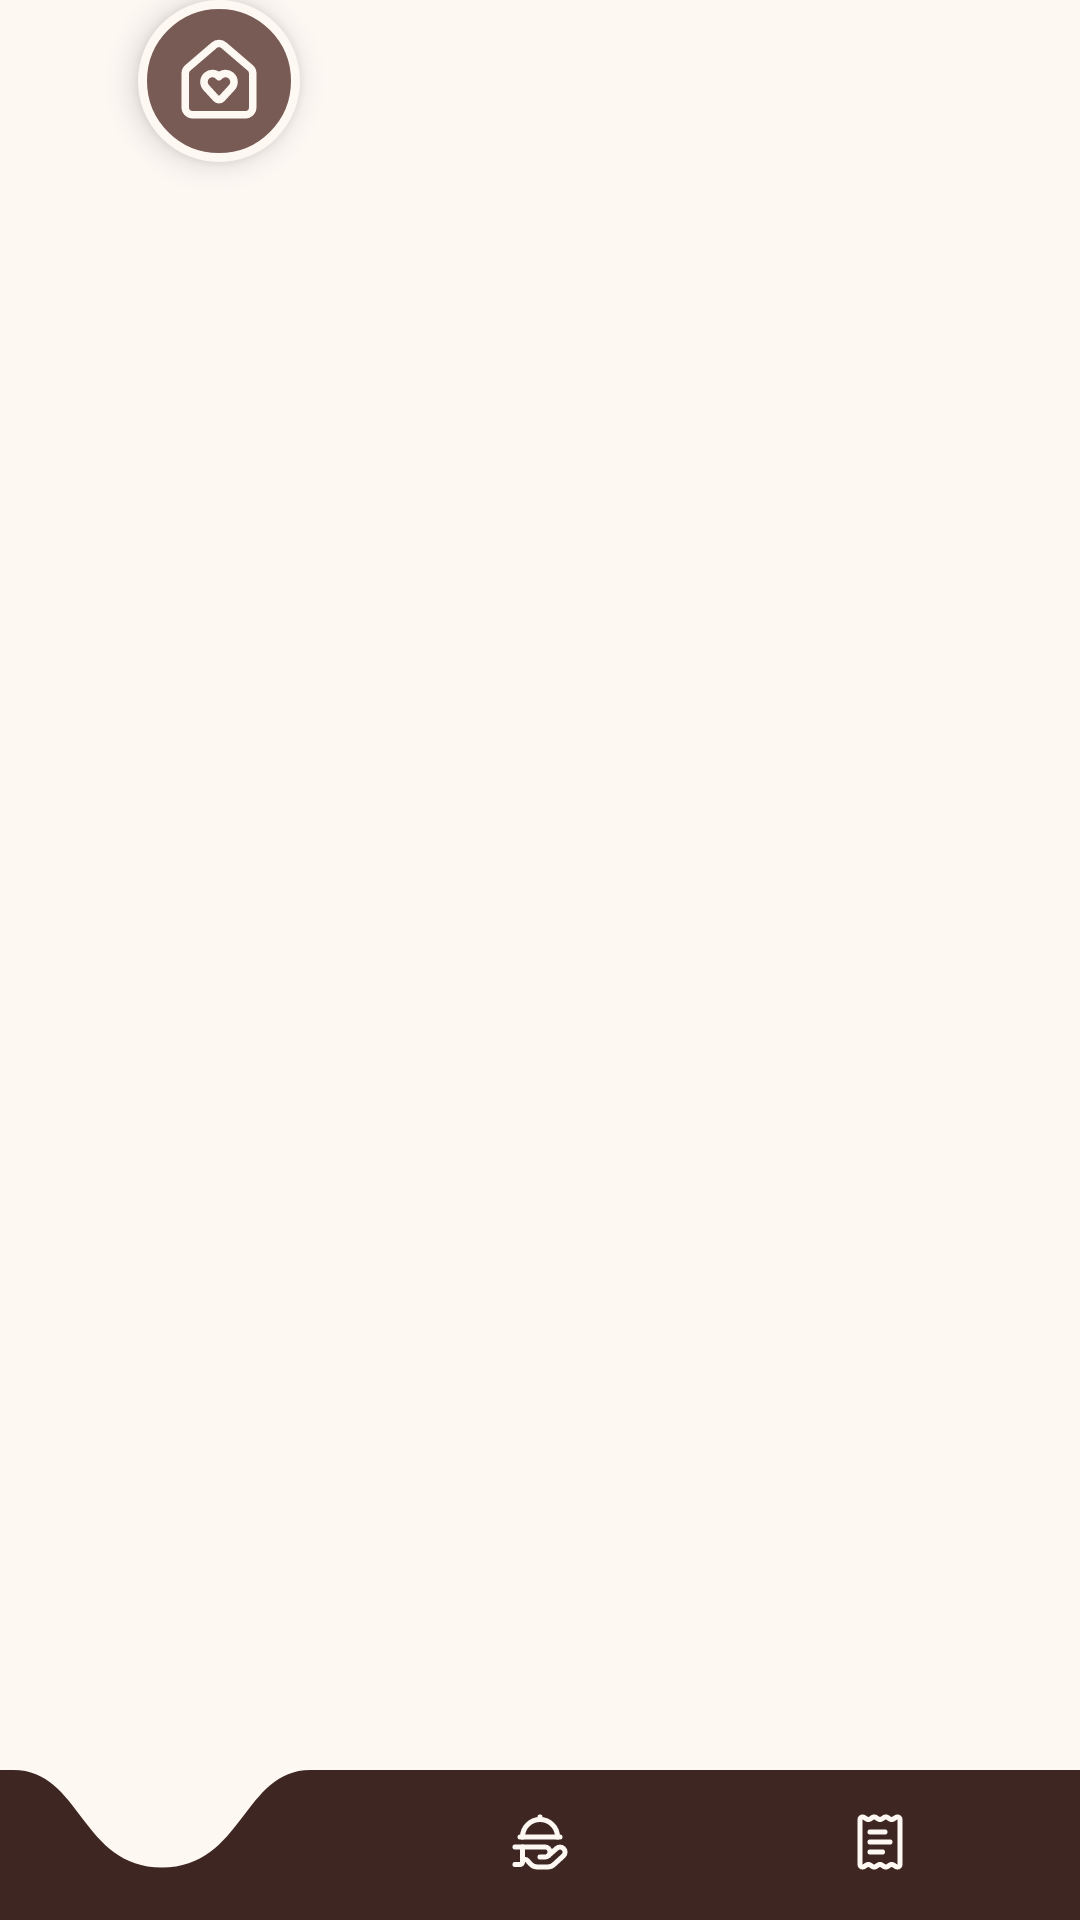

Where to tap for icons on this 1080 x 1920 app screen, as (x,y):
Historial de pedidos: (880,1842)
Inicio: (214,83)
Productos: (540,1842)
